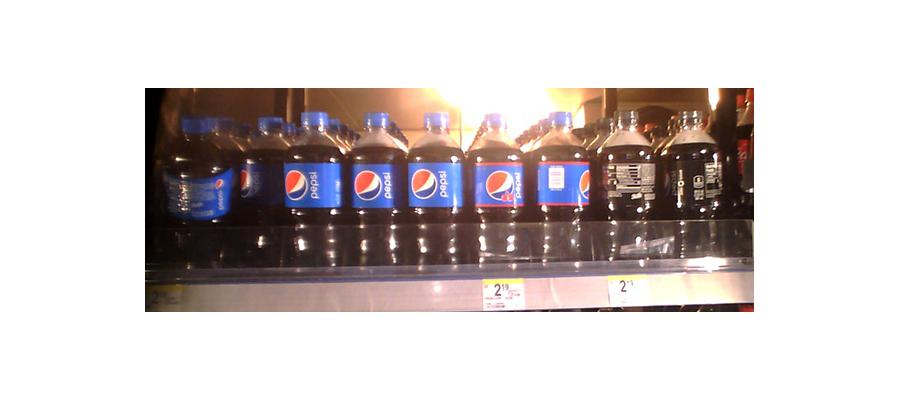bottle: (154, 105, 233, 257), (598, 110, 664, 262), (528, 108, 593, 262), (279, 107, 344, 260), (405, 109, 466, 270), (666, 105, 724, 261), (467, 112, 525, 263), (345, 112, 404, 259), (235, 115, 292, 258)
